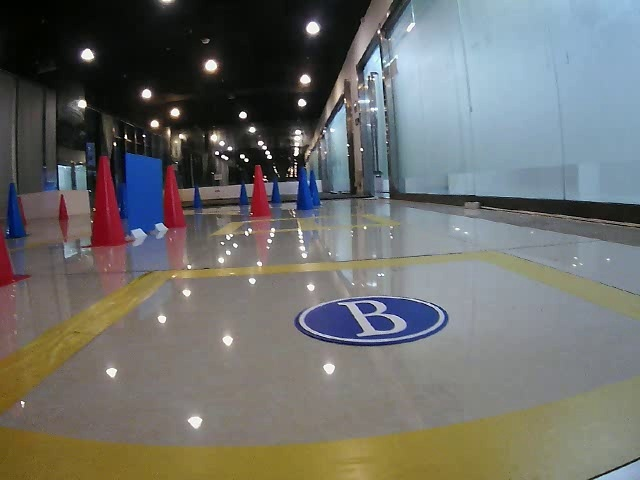B: (295, 295, 444, 342)
